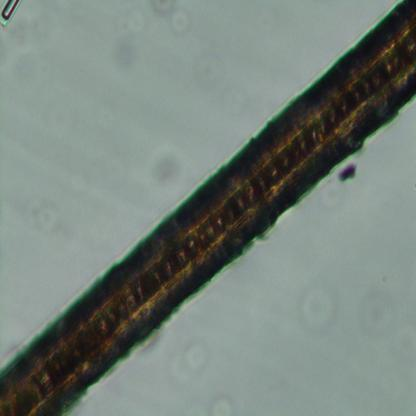Background material: (287, 274, 339, 335), (172, 343, 215, 384), (364, 288, 396, 342), (23, 194, 59, 228), (144, 157, 180, 188), (115, 32, 139, 70), (201, 391, 235, 416), (170, 6, 190, 33), (338, 161, 360, 184), (154, 0, 174, 13)
Glass filter fibre: (0, 0, 22, 25)
Hair: (0, 0, 416, 416)
